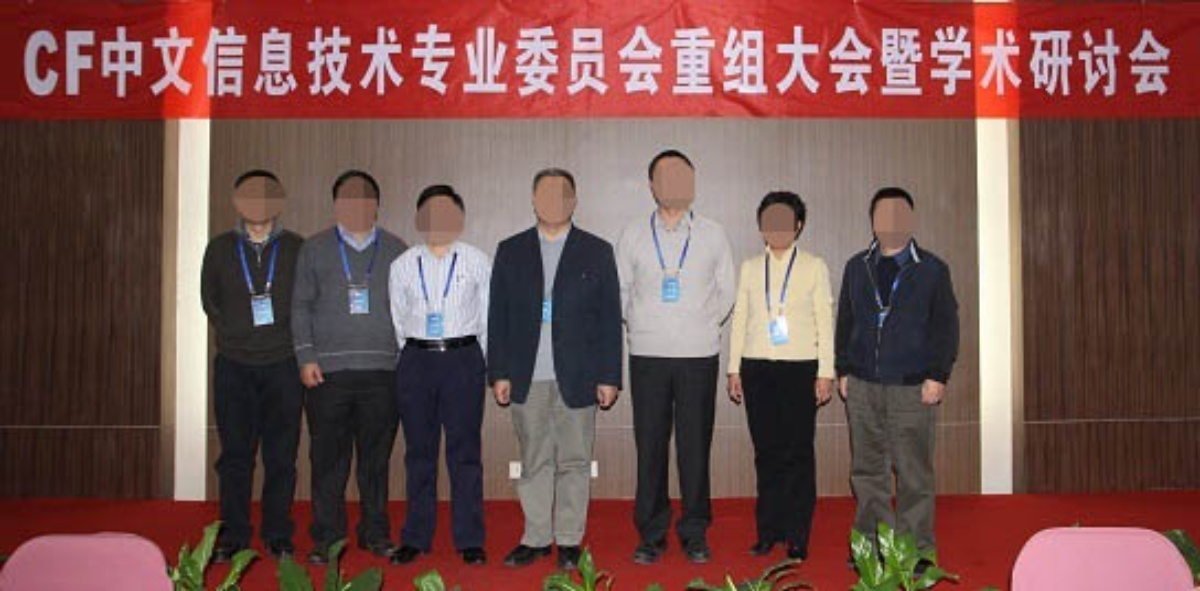text: (33, 25, 48, 100), (49, 25, 64, 100), (65, 25, 80, 100), (81, 25, 96, 100), (97, 25, 112, 100), (113, 25, 128, 100), (129, 25, 144, 100), (145, 25, 160, 100), (161, 25, 176, 100), (177, 25, 192, 100), (193, 25, 208, 100), (209, 25, 224, 100), (225, 25, 240, 100), (241, 25, 256, 100), (257, 25, 272, 100), (273, 25, 288, 100), (289, 25, 304, 100), (305, 25, 320, 100), (321, 25, 336, 100), (337, 25, 352, 100), (353, 25, 368, 100), (369, 25, 384, 100), (385, 25, 400, 100), (401, 25, 416, 100), (417, 25, 432, 100), (433, 25, 448, 100), (449, 25, 464, 100), (465, 25, 480, 100), (481, 25, 496, 100), (497, 25, 512, 100), (513, 25, 528, 100), (529, 25, 544, 100), (545, 25, 560, 100), (561, 25, 576, 100), (577, 25, 592, 100), (593, 25, 608, 100), (609, 25, 624, 100), (625, 25, 640, 100), (641, 25, 656, 100), (657, 25, 672, 100), (673, 25, 688, 100), (689, 25, 704, 100), (705, 25, 720, 100), (721, 25, 736, 100), (737, 25, 752, 100), (753, 25, 768, 100), (769, 25, 784, 100), (785, 25, 800, 100), (801, 25, 816, 100), (817, 25, 832, 100), (833, 25, 848, 100), (849, 25, 864, 100), (865, 25, 880, 100), (881, 25, 896, 100), (897, 25, 912, 100), (913, 25, 928, 100), (929, 25, 944, 100), (945, 25, 960, 100), (961, 25, 976, 100), (977, 25, 992, 100), (993, 25, 1008, 100), (1009, 25, 1024, 100), (1025, 25, 1040, 100), (1041, 25, 1056, 100), (1057, 25, 1072, 100), (1073, 25, 1088, 100), (1089, 25, 1104, 100), (1105, 25, 1120, 100), (1121, 25, 1136, 100), (1137, 25, 1152, 100), (1153, 25, 1168, 100), (20, 25, 32, 100), (1169, 25, 1172, 100)
